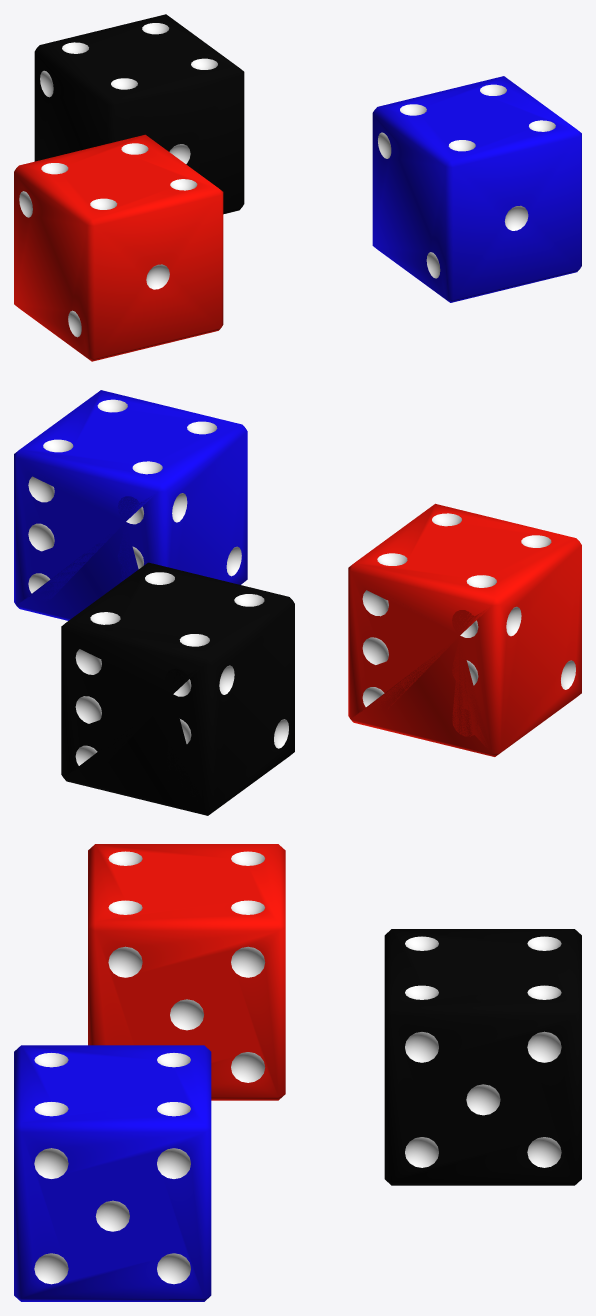
The model's file is dados.fbx.
3 renders of one model, top to bottom at view 1: azimuth 30°, elevation 25°; view 2: azimuth 150°, elevation 25°; view 3: azimuth 270°, elevation 25°, orthographic. The views are drawn at different scales.
Parts seen in each view (by area): view 1: dado, dado.002, dado.001; view 2: dado, dado.001, dado.002; view 3: dado.001, dado.002, dado.
Part boxes in pixels (x1,y1,x2,y2): dado: (14,134,223,361); dado.002: (372,76,581,302); dado.001: (34,14,244,214); dado: (348,503,581,756); dado.001: (61,562,294,815); dado.002: (14,390,247,620); dado.001: (384,929,581,1185); dado.002: (14,1045,211,1301); dado: (88,844,285,1100).
Size of the model in its own units: 40.25 by 11.79 by 33.92.
